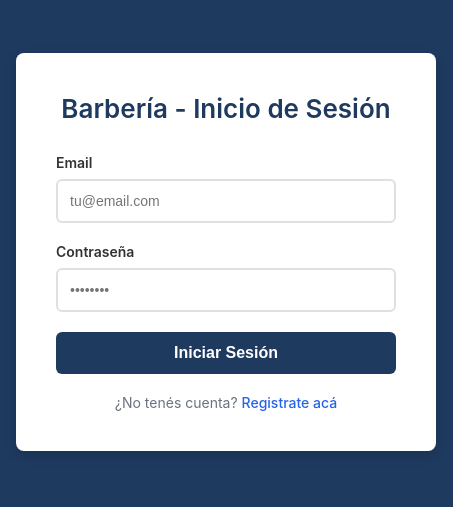
LoginPage › should display error message on failed login
Step 1. Type "wrong@example.com" into the field labelled "Email" → (226, 201), box [56,179,396,223]
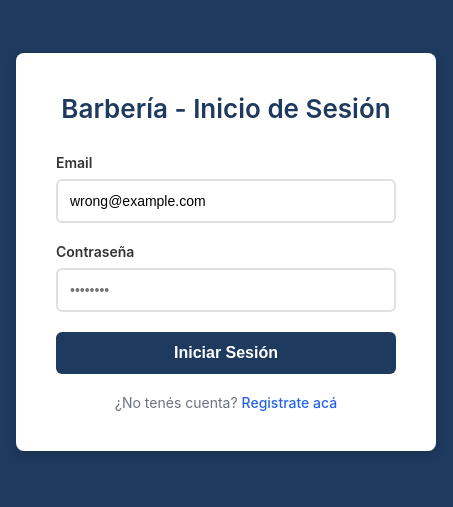
Step 2. Type "wrongpassword" into the password field labelled "Contraseña" → (226, 290), box [56,268,396,312]
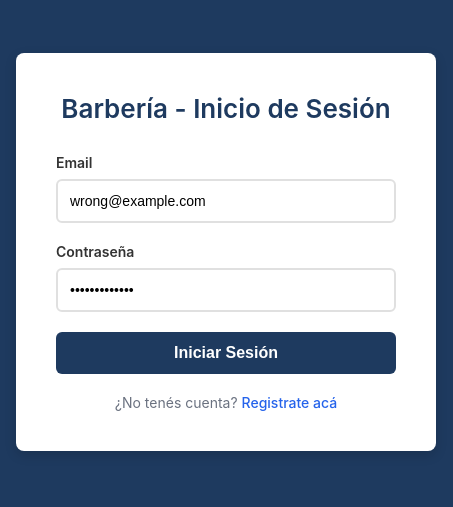
Step 3. Click the button "Iniciar Sesión" → (226, 353), box [56,332,396,374]
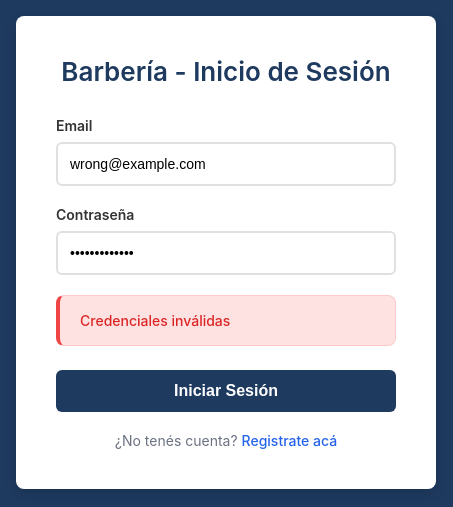
Expected: the text "Credenciales inválidas" is shown, [56,294,396,346]
